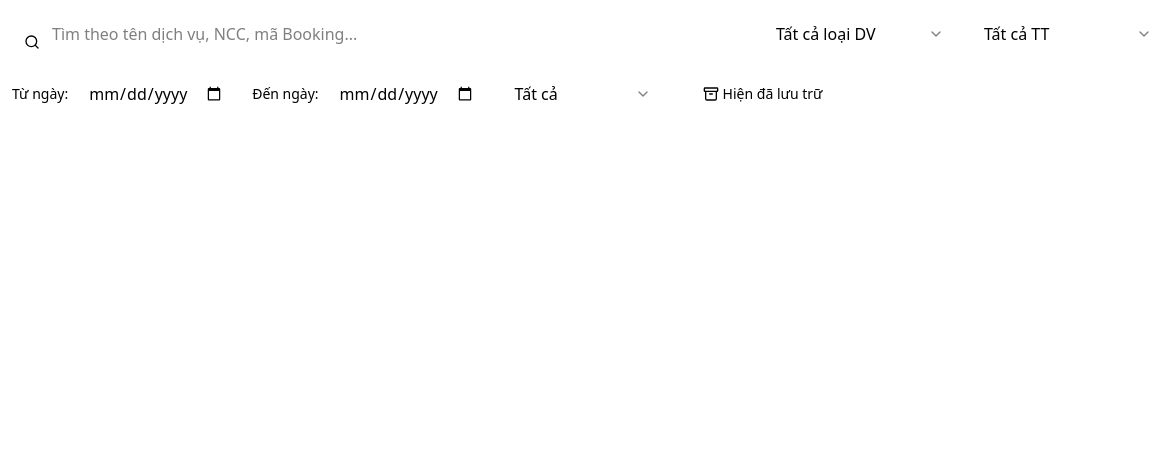
Test: OperatorListFilters › Service Type Filter › displays "Tất cả loại DV" when no selection
The image size is (1176, 467).
# Get service type select (first combobox)
What coordinates should you click on to do the following:
click the dropdown labelled "Tất cả loại DV"
I would click on:
 (860, 34)
Its box is top-left (764, 12), bottom-right (956, 56).
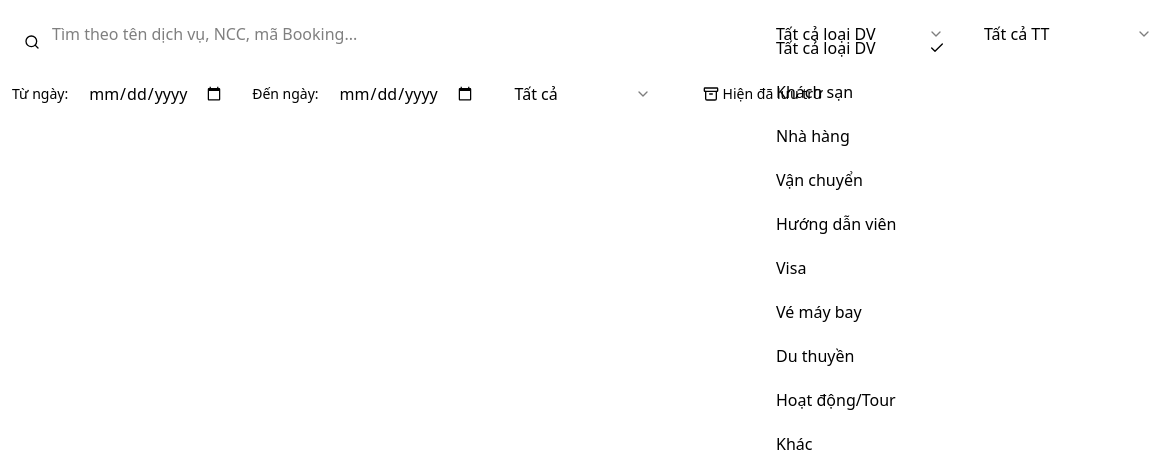
Expected: the option "Tất cả loại DV" is shown, top-left (776, 37), bottom-right (945, 59)
